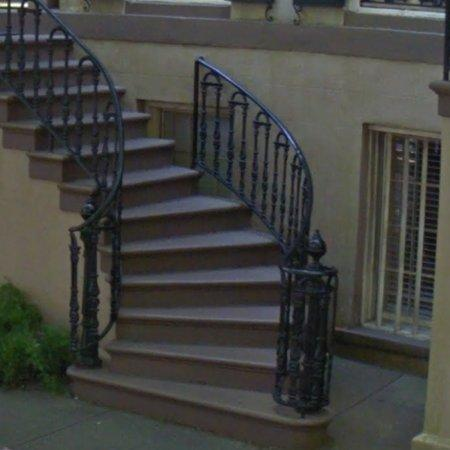stairs: (0, 0, 331, 445)
